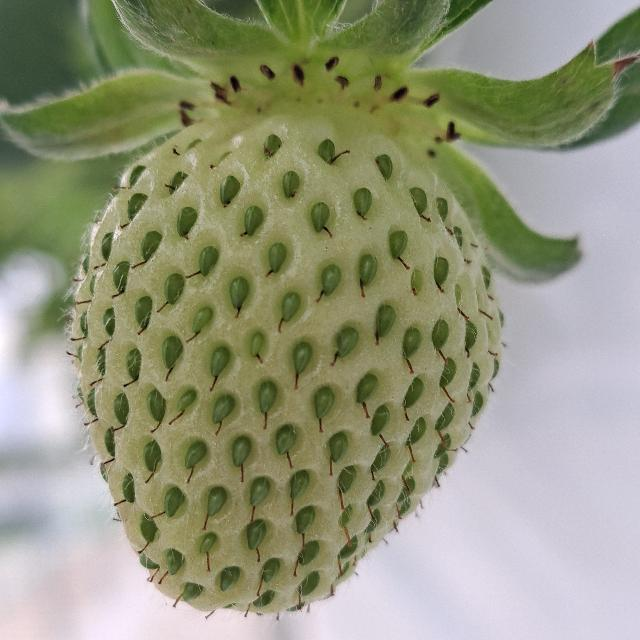Health_25: (71, 117, 503, 615)
